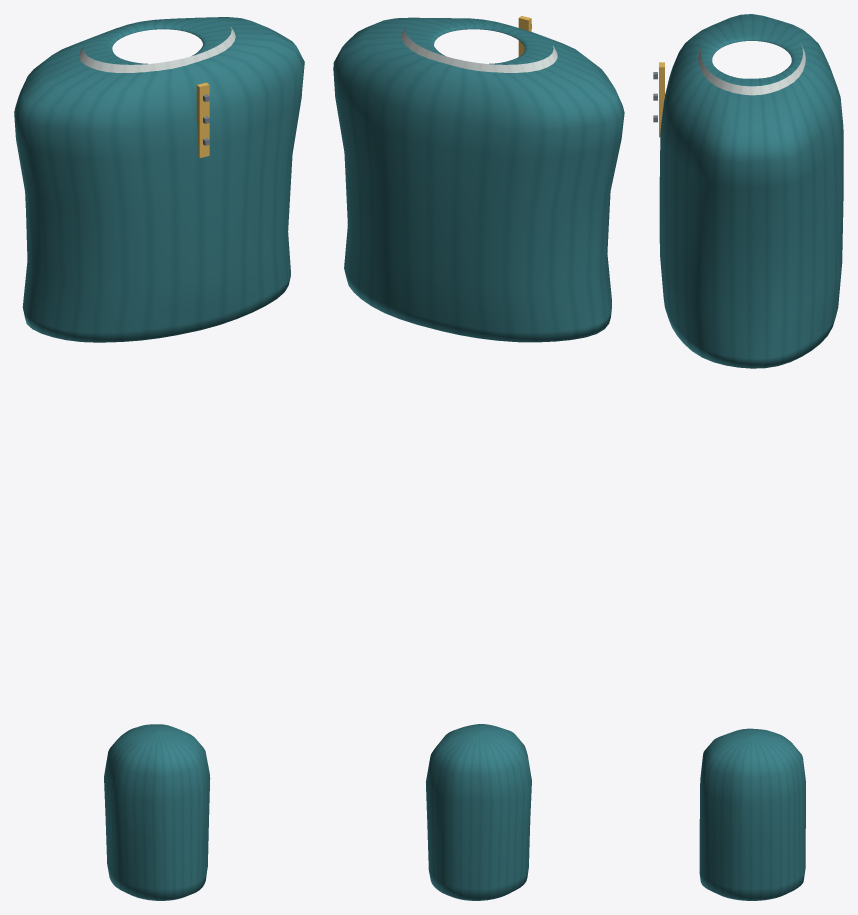
File: reference_polo_shirt.gltf
3 views of the same model, side by side, from view 1: azimuth 30°, elevation 25°; view 2: azimuth 150°, elevation 25°; view 3: azimuth 270°, elevation 25° (orthographic).
Visible parts, largest first — view 1: Torso, SleeveL; view 2: Torso, SleeveL; view 3: Torso, SleeveL.
Part boxes in pixels (x1,y1,x2,y2): Torso: (14,17,304,342); SleeveL: (104,724,210,900); Torso: (333,16,624,342); SleeveL: (426,724,531,900); Torso: (653,14,843,368); SleeveL: (699,728,805,900).
Bounding box in the file's own units: 0.5276 × 1.54 × 0.3203.
Materials: 4 (4 with a texture image).
